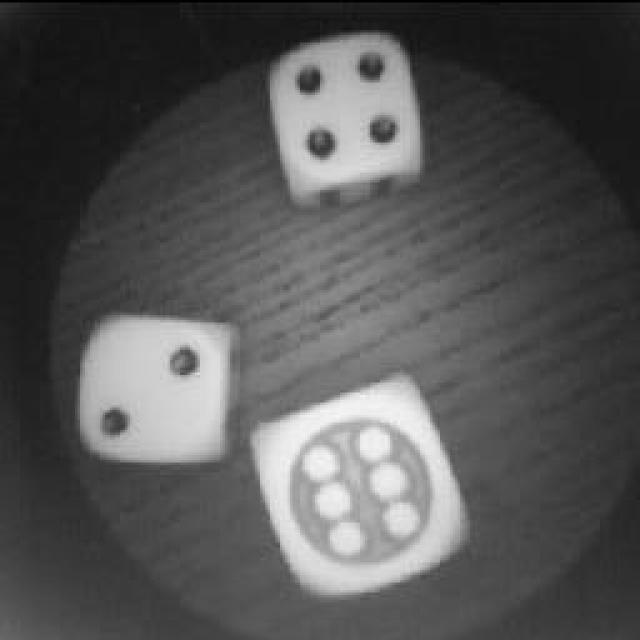dice_2: (75, 308, 240, 470)
dice_4: (260, 25, 432, 193)
dice_6: (248, 375, 472, 597)
